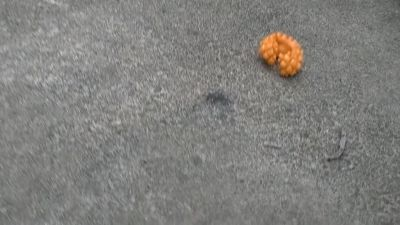eggs: (256, 31, 308, 79)
